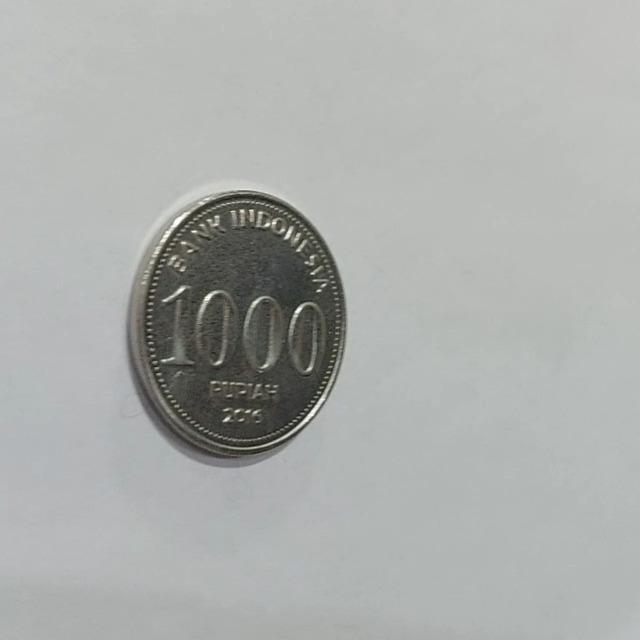Rp100: (125, 185, 348, 466)
